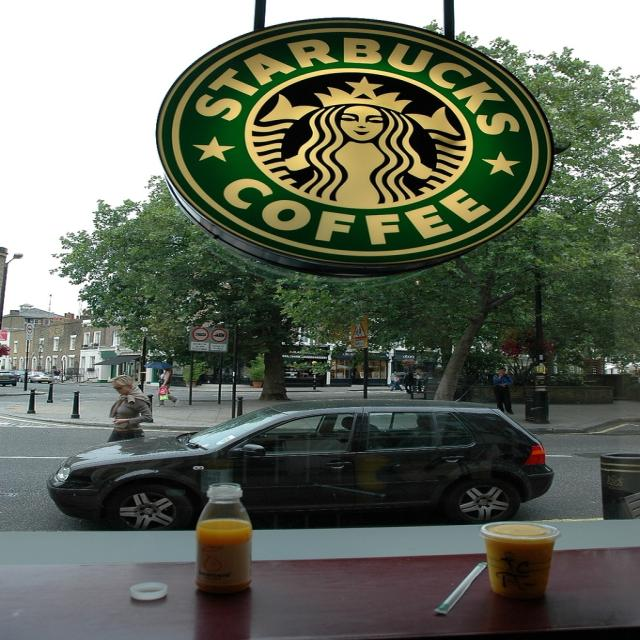starbucks: (157, 19, 553, 264)
